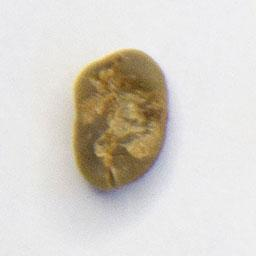premium: (69, 45, 172, 195)
